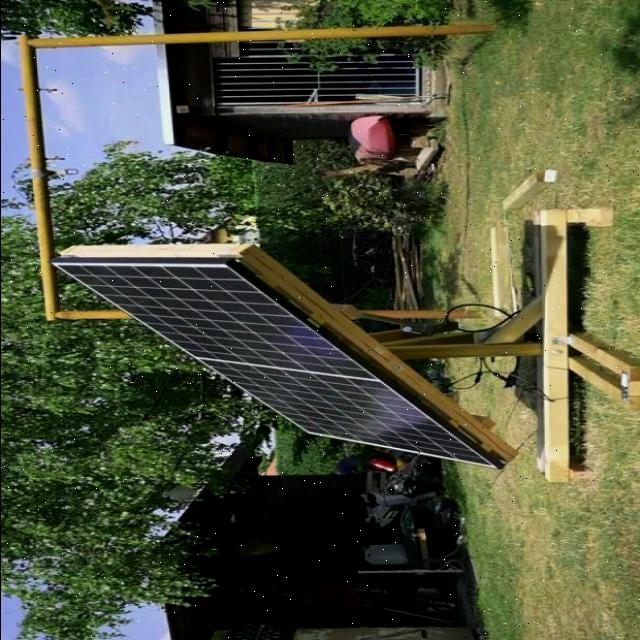Normal Solar Panel: (56, 258, 502, 466)
